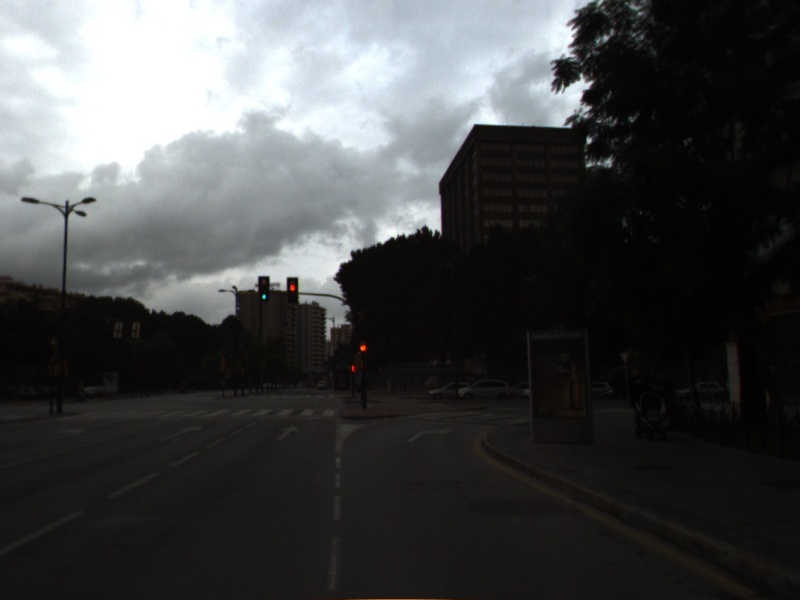RIGHT: (404, 425, 455, 445)
STRAIGHT: (157, 423, 205, 443), (272, 422, 302, 443)
